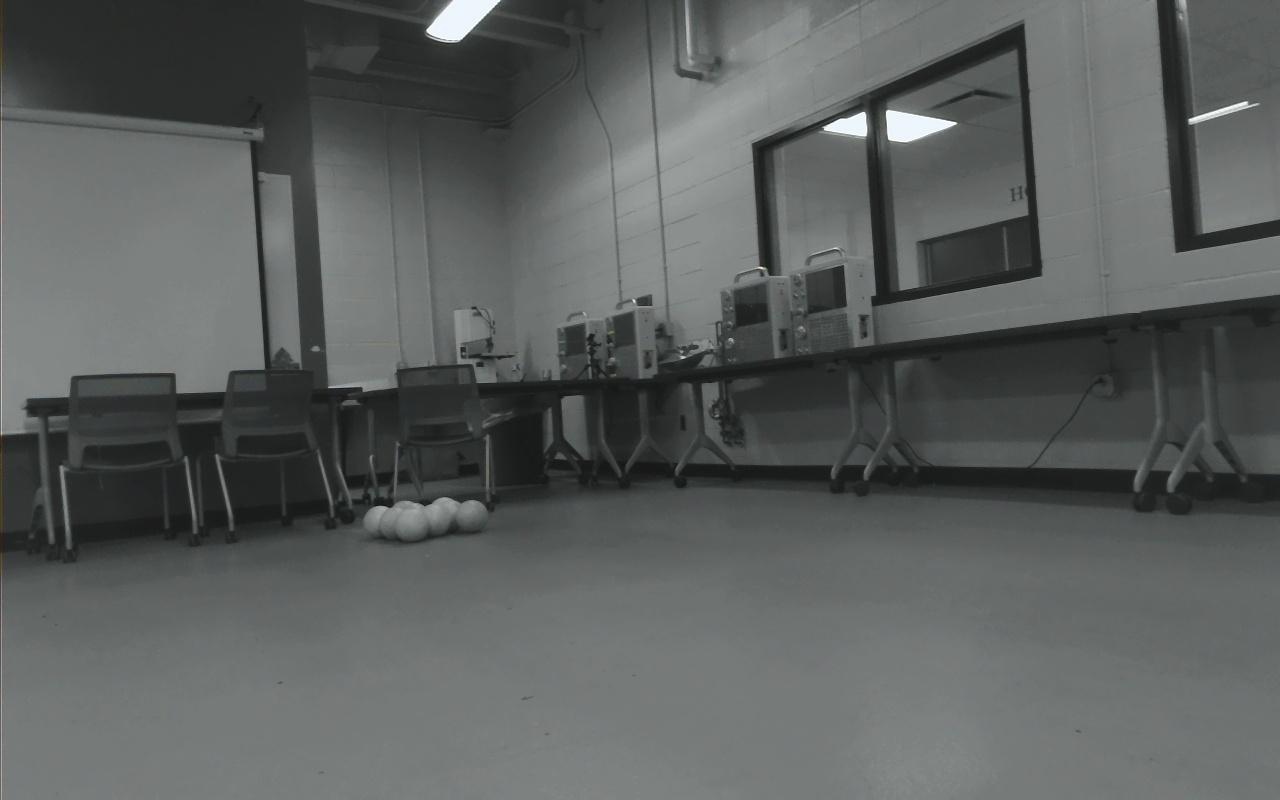Fuel: (454, 499, 488, 534), (396, 509, 430, 542), (362, 504, 393, 540), (421, 503, 453, 537), (431, 497, 461, 531), (380, 507, 408, 542), (392, 500, 417, 533), (438, 500, 463, 530), (401, 503, 428, 528)
